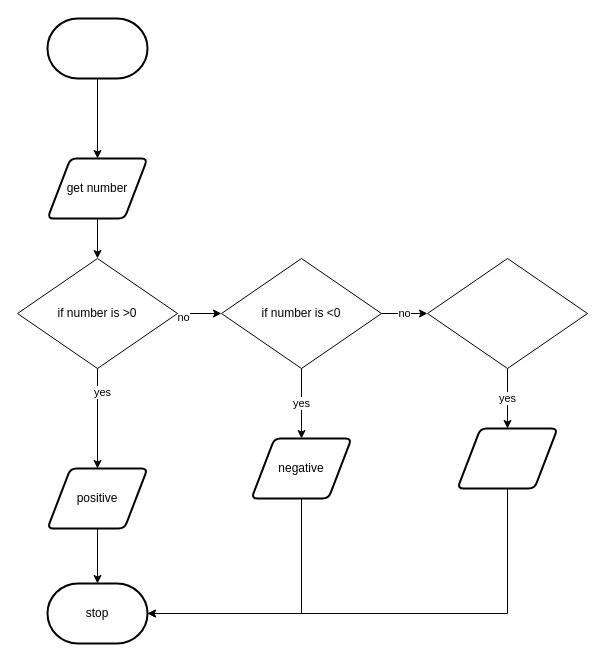
The diagram is 605 pixels wide and 661 high, and some of its shapes have lost their labels. The shapes that lost their labels are listed below. From the top down, each one's centre as x and y in pixels, then its label:
At (97,48): "start".
At (507,313): "if number is = to 0".
At (507,458): "zero".
